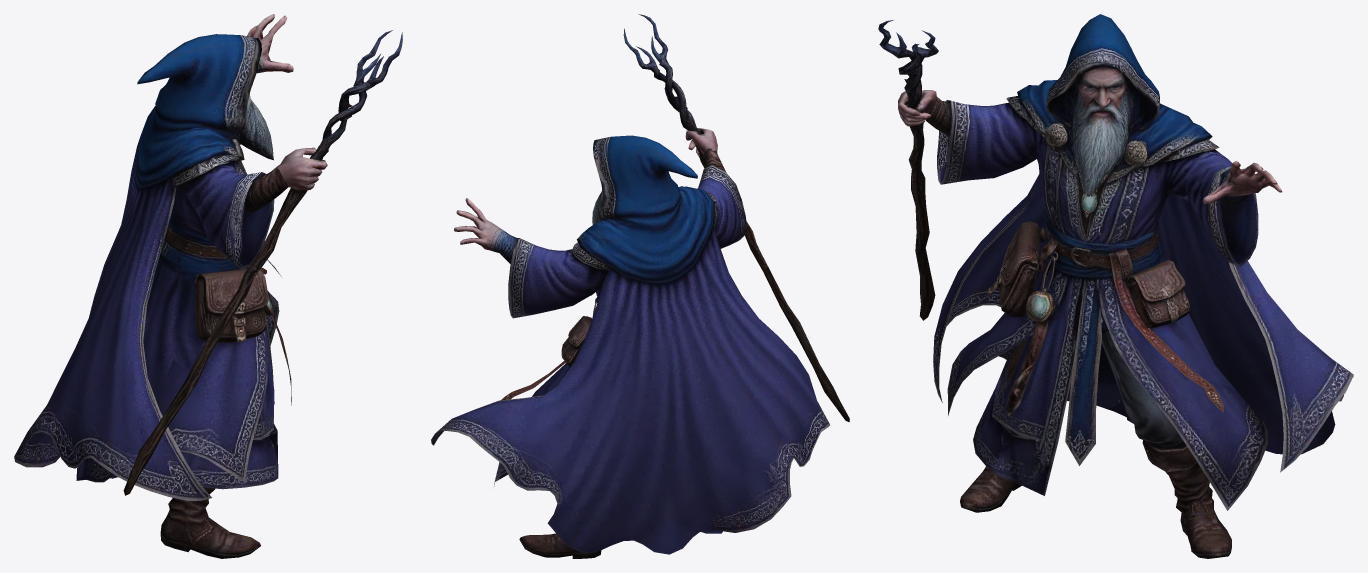
The model's file is wizard.glb.
3 views of the same model, side by side, from view 1: azimuth 30°, elevation 25°; view 2: azimuth 150°, elevation 25°; view 3: azimuth 270°, elevation 25° (orthographic). The views are drawn at different scales.
Parts seen in each view (by area): view 1: tripo_node_24c04d01-5d93-43a5-bd33-e17561ff1640; view 2: tripo_node_24c04d01-5d93-43a5-bd33-e17561ff1640; view 3: tripo_node_24c04d01-5d93-43a5-bd33-e17561ff1640.
Boxes of the visible parts, <box> form: tripo_node_24c04d01-5d93-43a5-bd33-e17561ff1640: <box>14,14,402,558</box>; tripo_node_24c04d01-5d93-43a5-bd33-e17561ff1640: <box>431,14,849,558</box>; tripo_node_24c04d01-5d93-43a5-bd33-e17561ff1640: <box>878,14,1353,558</box>.
Size of the model in its own units: 0.692 by 0.998 by 0.7793.
1 material, 1 textured.
